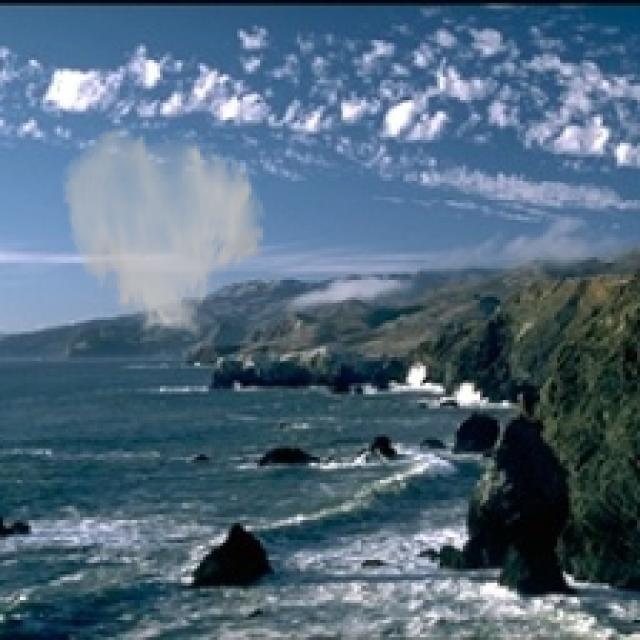Smoke: (60, 123, 269, 343)
